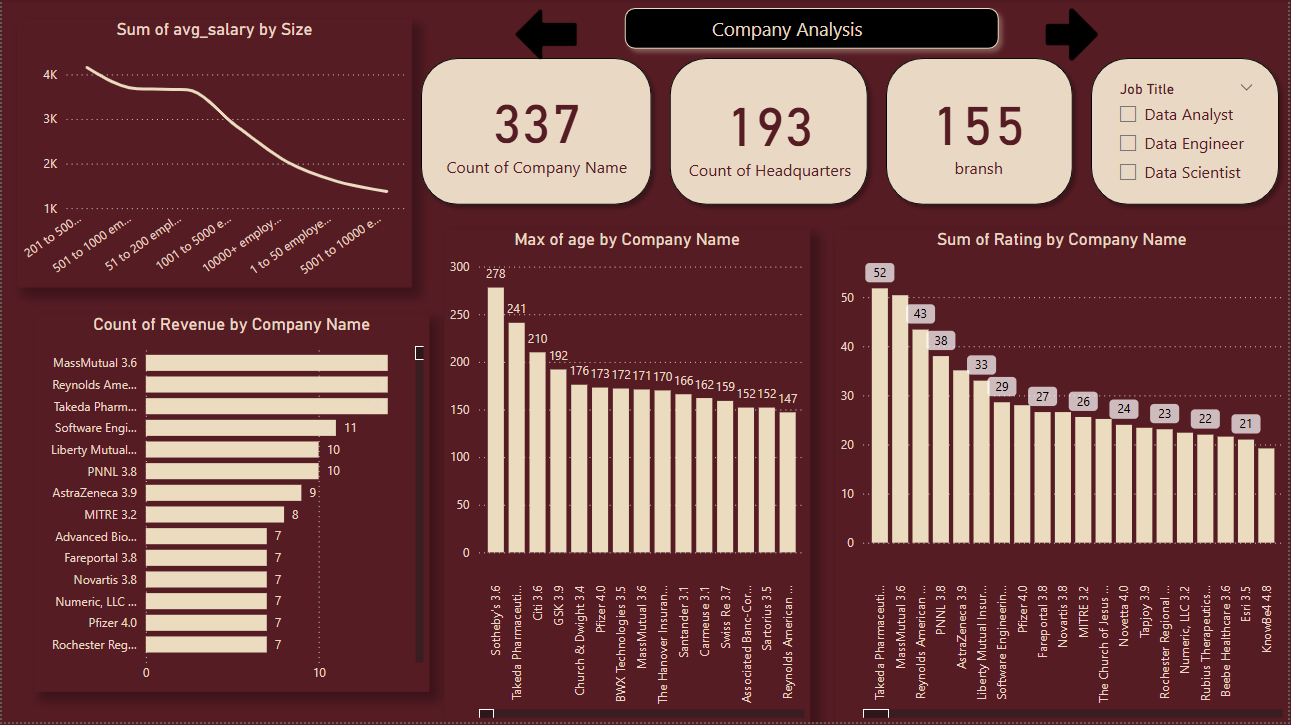

The dashboard page shown, as its layout file describes it:
{"tool":"powerbi","page":{"name":"company","canvas":[1280,720],"ordinal":2},"visuals":[{"type":"clusteredBarChart","fields":{"Category":["salary_data_cleaned.Company Name"],"Y":["CountNonNull(salary_data_cleaned.Revenue)"]},"box":[32.9,312.9,392.5,376],"z":0},{"type":"lineStackedColumnComboChart","fields":{"Category":["salary_data_cleaned.Company Name"],"Y":["Sum(salary_data_cleaned.Rating)"]},"box":[830.2,229.2,450.1,491.3],"z":1000},{"type":"columnChart","fields":{"Category":["salary_data_cleaned.Company Name"],"Y":["Max(salary_data_cleaned.age)"]},"box":[440.5,229.2,363.6,491.3],"z":2000},{"type":"lineChart","fields":{"Category":["salary_data_cleaned.Size"],"Y":["Sum(salary_data_cleaned.avg_salary)"]},"box":[14.9,19.9,393.1,267.5],"z":3000},{"type":"shape","box":[408,50,247.5,164.2],"z":4000},{"type":"shape","box":[655.5,50,215.2,164.2],"z":5000},{"type":"shape","box":[870.7,50,204,164.2],"z":6000},{"type":"shape","box":[1074.7,50,205.3,164.2],"z":7000},{"type":"card","fields":{"Values":["Count(salary_data_cleaned.Company Name)"]},"box":[432.9,73.6,199,110.7],"z":8000},{"type":"card","fields":{"Values":["salary_data_cleaned.bransh"]},"box":[905.6,73.6,133.1,113.2],"z":9000},{"type":"card","fields":{"Values":["Count(salary_data_cleaned.Headquarters)"]},"box":[676.7,76.1,175.4,110.7],"z":10000},{"type":"slicer","fields":{"Values":["salary_data_cleaned.Job Title"]},"box":[1099.6,76.1,158,116.9],"z":11000},{"type":"shape","box":[610.8,0,390.6,58.5],"z":12000},{"type":"textbox","box":[701.6,12.4,209,34.8],"z":13000},{"type":"image","box":[1001.4,0,126.9,70.9],"z":14000},{"type":"image","box":[495.1,0,92.1,70.9],"z":15000},{"type":"shape","box":[1043.7,29.9,31.1,12.4],"z":16000},{"type":"shape","box":[531.2,29.9,31.1,12.4],"z":17000}]}

Visuals, with their boxes in screenshot pixels (x1, y1, x2, y2), scaled from the page's 1280x720 canvas onto the 1291x725 screenshot:
clusteredBarChart - salary_data_cleaned.Company Name x CountNonNull(salary_data_cleaned.Revenue): rect(33, 315, 429, 694)
lineStackedColumnComboChart - salary_data_cleaned.Company Name x Sum(salary_data_cleaned.Rating): rect(837, 231, 1290, 724)
columnChart - salary_data_cleaned.Company Name x Max(salary_data_cleaned.age): rect(444, 231, 811, 724)
lineChart - salary_data_cleaned.Size x Sum(salary_data_cleaned.avg_salary): rect(15, 20, 412, 289)
shape: rect(412, 50, 661, 216)
shape: rect(661, 50, 878, 216)
shape: rect(878, 50, 1084, 216)
shape: rect(1084, 50, 1290, 216)
card - Count(salary_data_cleaned.Company Name): rect(437, 74, 637, 186)
card - salary_data_cleaned.bransh: rect(913, 74, 1048, 188)
card - Count(salary_data_cleaned.Headquarters): rect(683, 77, 859, 188)
slicer - salary_data_cleaned.Job Title: rect(1109, 77, 1268, 194)
shape: rect(616, 0, 1010, 59)
textbox: rect(708, 12, 918, 48)
image: rect(1010, 0, 1138, 71)
image: rect(499, 0, 592, 71)
shape: rect(1053, 30, 1084, 43)
shape: rect(536, 30, 567, 43)
